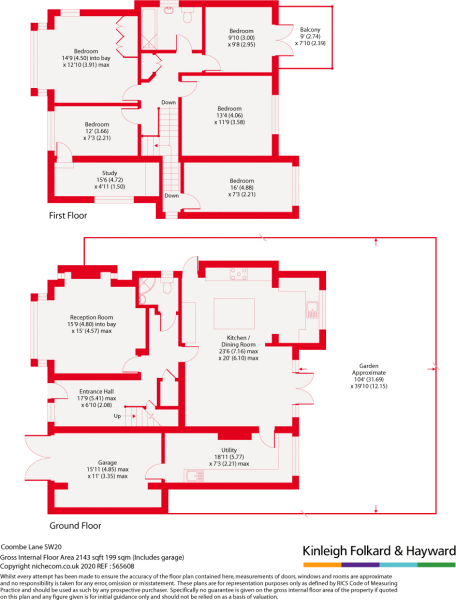GardenMeasurements: (349, 359, 389, 394)
GrossArea: (1, 551, 187, 564)
